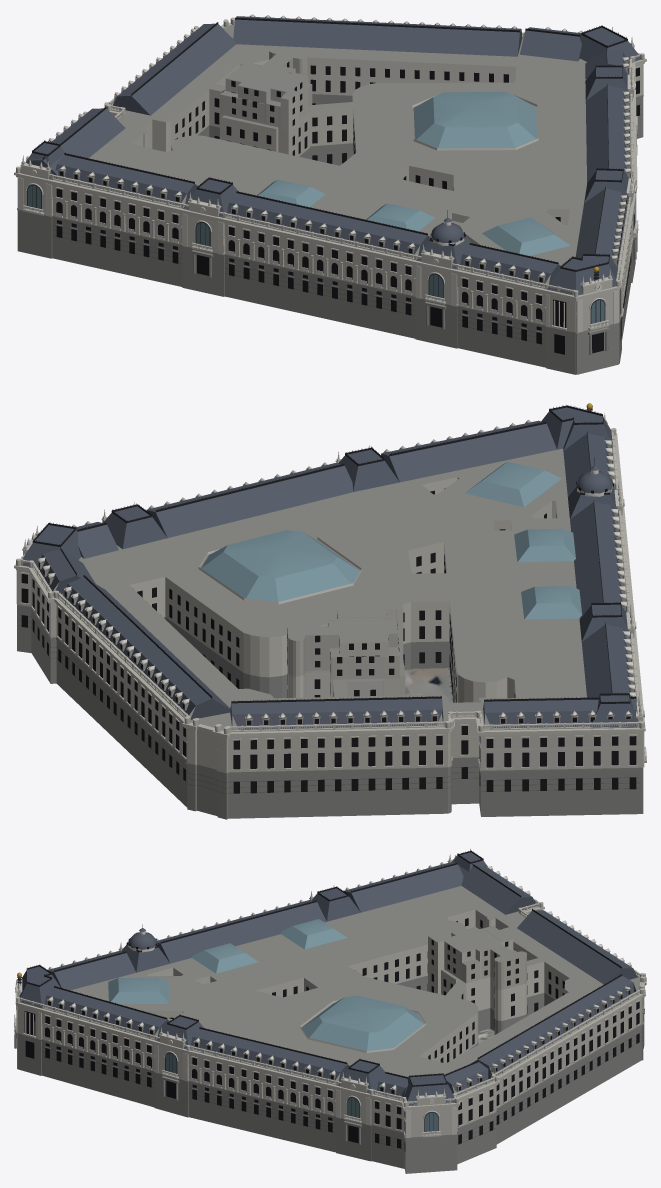
3 renders of one model, top to bottom at view 1: azimuth 30°, elevation 25°; view 2: azimuth 150°, elevation 25°; view 3: azimuth 270°, elevation 25°, orthographic. The views are drawn at different scales.
Parts seen in each view (by area): view 1: banco_de_espana, roofs, skylights, cresting; view 2: banco_de_espana, roofs, skylights, cresting, courtyards; view 3: banco_de_espana, roofs, skylights, cresting.
Boxes of the visible parts, left/top/right/bottom form: banco_de_espana: left=14, top=14, right=646, bottom=374; roofs: left=20, top=16, right=640, bottom=295; skylights: left=257, top=91, right=570, bottom=255; cresting: left=32, top=17, right=627, bottom=271; banco_de_espana: left=14, top=403, right=646, bottom=819; roofs: left=21, top=407, right=638, bottom=729; skylights: left=201, top=461, right=581, bottom=619; cresting: left=32, top=405, right=636, bottom=703; courtyards: left=404, top=668, right=452, bottom=702; banco_de_espana: left=14, top=849, right=646, bottom=1173; roofs: left=19, top=852, right=637, bottom=1106; skylights: left=108, top=919, right=424, bottom=1050; cresting: left=26, top=850, right=622, bottom=1086.
Size of the model in its own units: 174 by 35 by 188.
